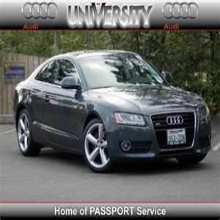no damage: (12, 50, 212, 174)
